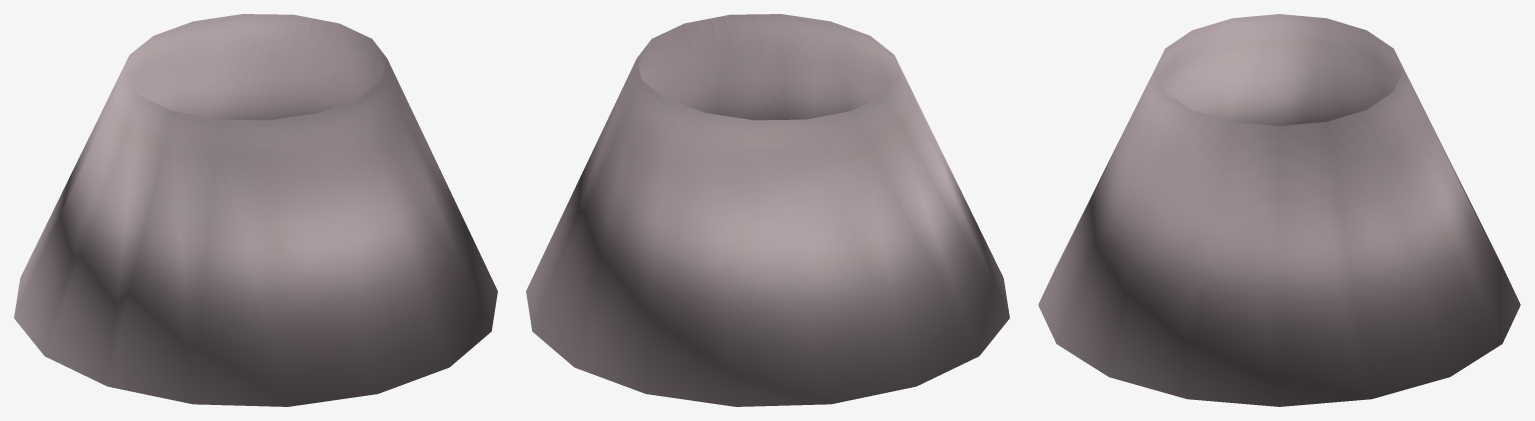
Rendered from WorldItem_HCLampshade.fbx.
The picture shows the model from 3 angles, left to right: view 1: azimuth 30°, elevation 25°; view 2: azimuth 150°, elevation 25°; view 3: azimuth 270°, elevation 25°; orthographic projection.
Visible parts, largest first — view 1: Lampshade; view 2: Lampshade; view 3: Lampshade.
Part boxes in pixels (x1,y1,x2,y2): Lampshade: [14, 14, 497, 406]; Lampshade: [526, 14, 1009, 406]; Lampshade: [1038, 14, 1520, 406].
Size of the model in its own units: 0.2847 by 0.1529 by 0.2847.
